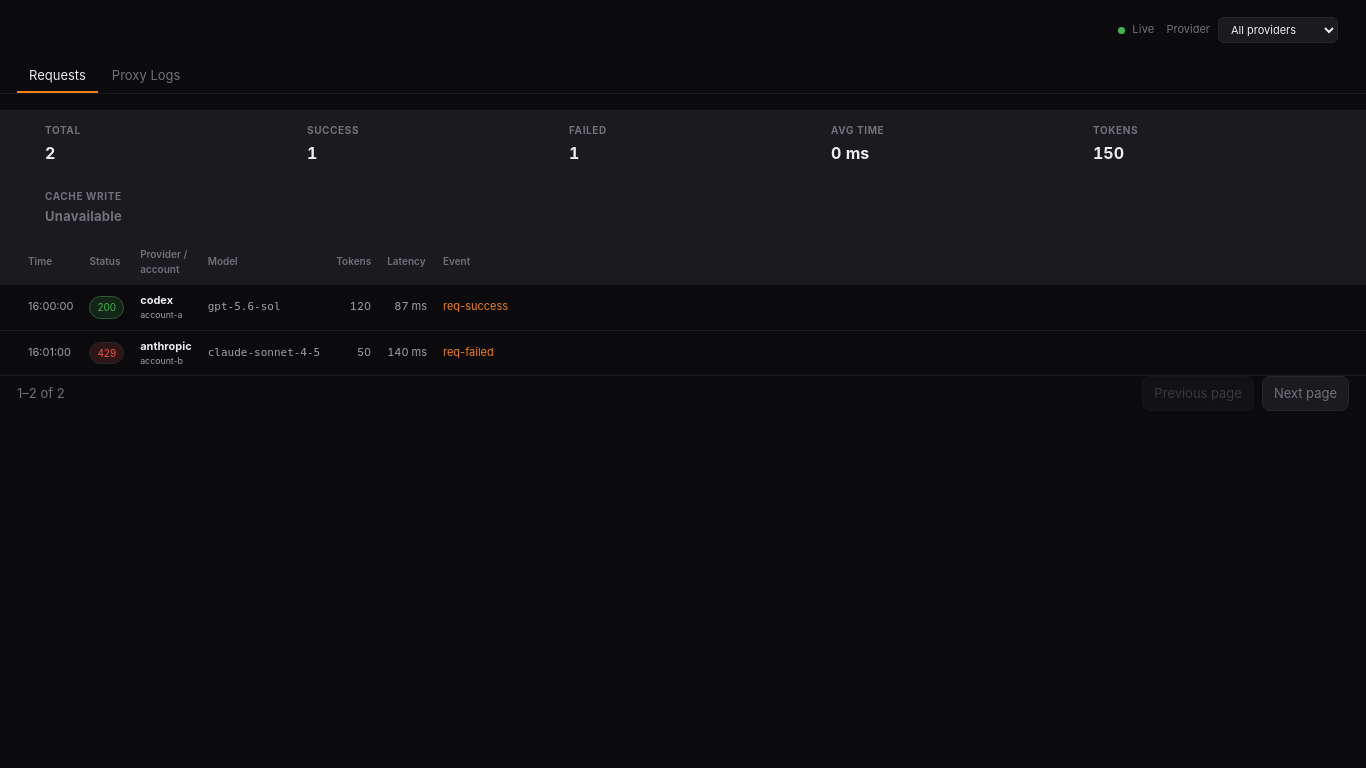
Durable logs surface › opens the request detail view without cost or eyebrow decoration
Click the button with aria-label "view req-failed details" at {"x": 468, "y": 352}, box 443,345 -> 1338,361
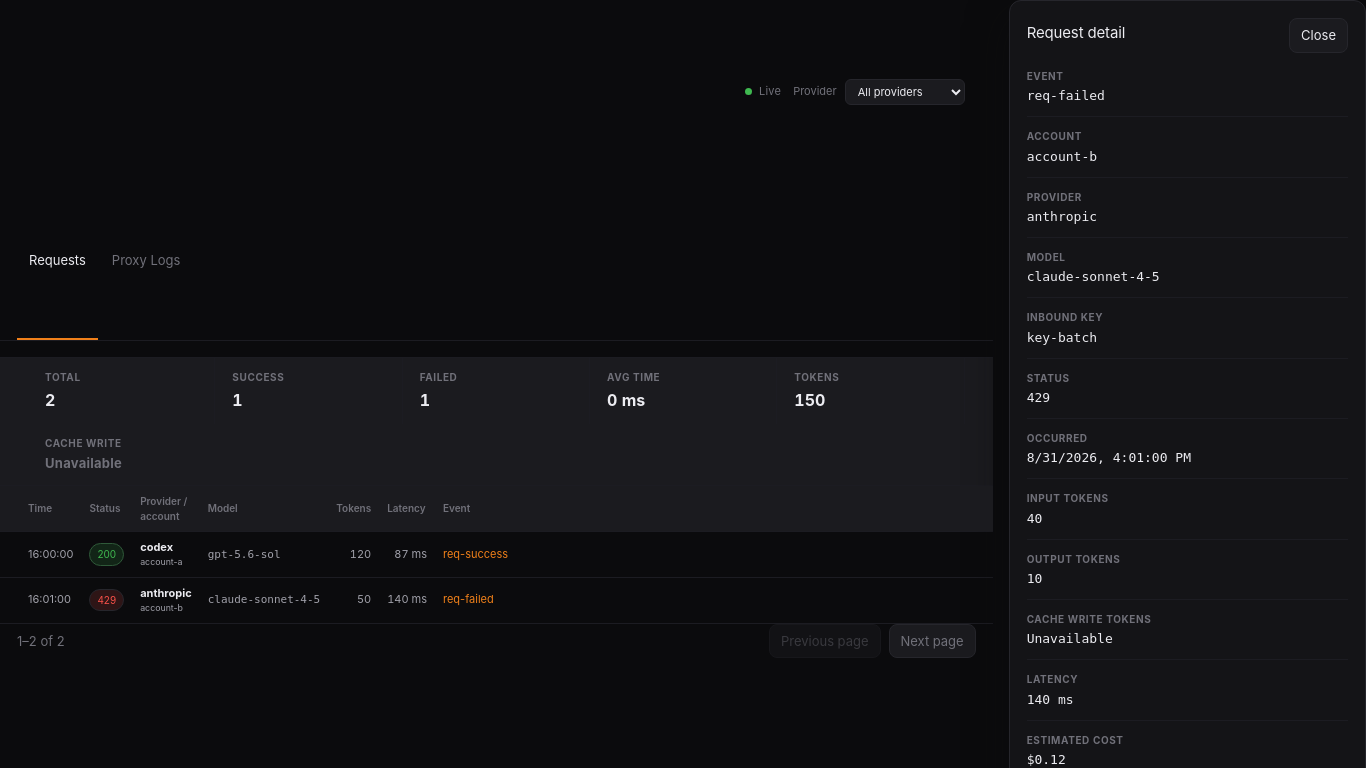
Result: the text "req-failed" is shown at 1027,88 -> 1105,103
Result: the text "account-b" below "Request detail" is shown at 1027,149 -> 1097,164
Result: the text "claude-sonnet-4-5" is shown at 1027,269 -> 1160,284
